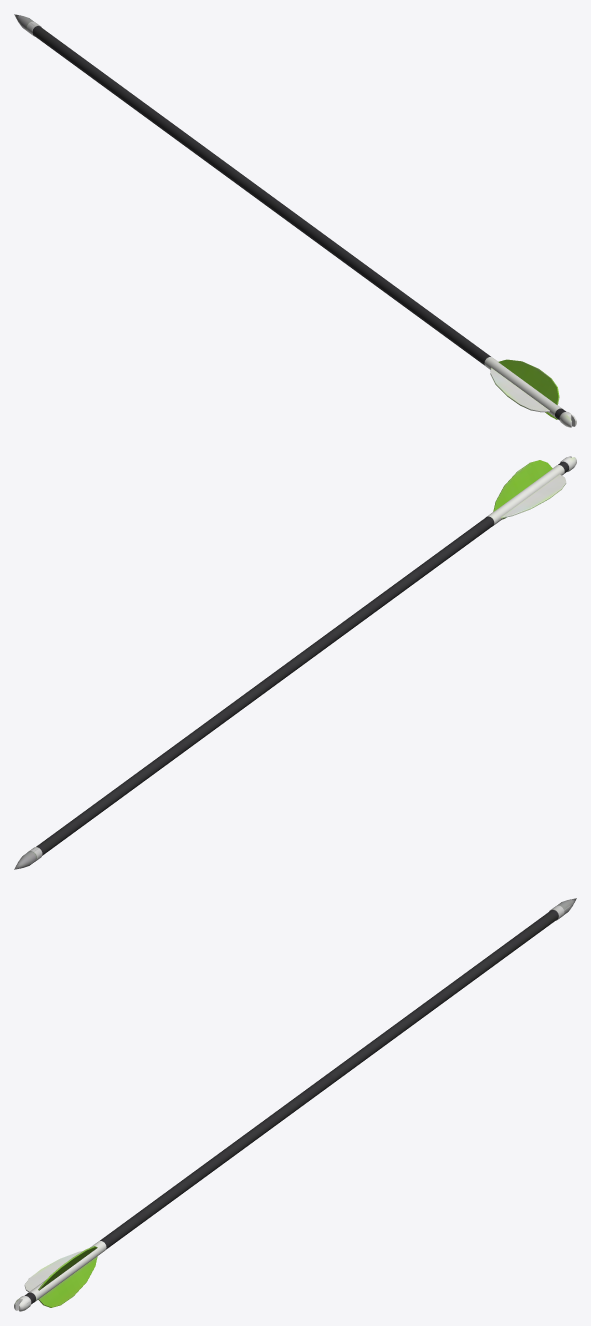
File: flecha_campo.glb
3 views of the same model, one above another, from view 1: azimuth 30°, elevation 25°; view 2: azimuth 150°, elevation 25°; view 3: azimuth 330°, elevation 25° (orthographic).
Visible parts, largest first — view 1: flecha_campo_flecha; view 2: flecha_campo_flecha; view 3: flecha_campo_flecha.
Boxes of the visible parts, bbox=[...] form: flecha_campo_flecha: bbox=[14, 14, 576, 427]; flecha_campo_flecha: bbox=[14, 456, 576, 869]; flecha_campo_flecha: bbox=[14, 898, 576, 1311].
Bounding box in the file's own units: 0.0242 × 0.0279 × 0.724.
1 material, 1 textured.
